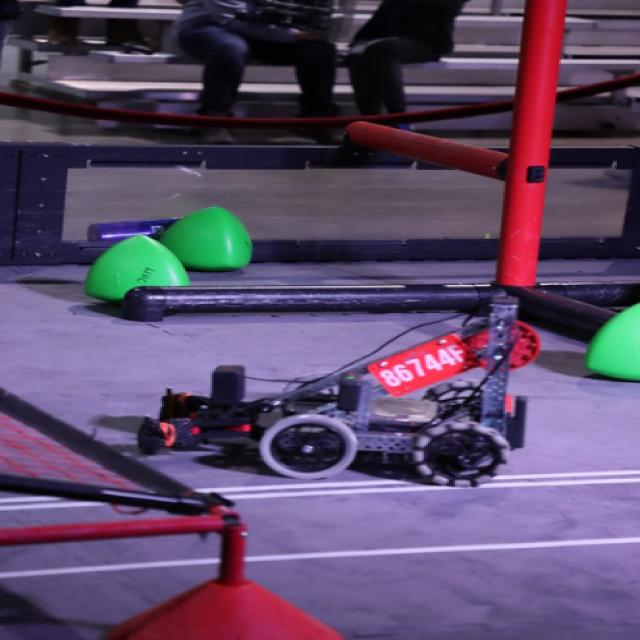License-Plates: (362, 329, 485, 398)
